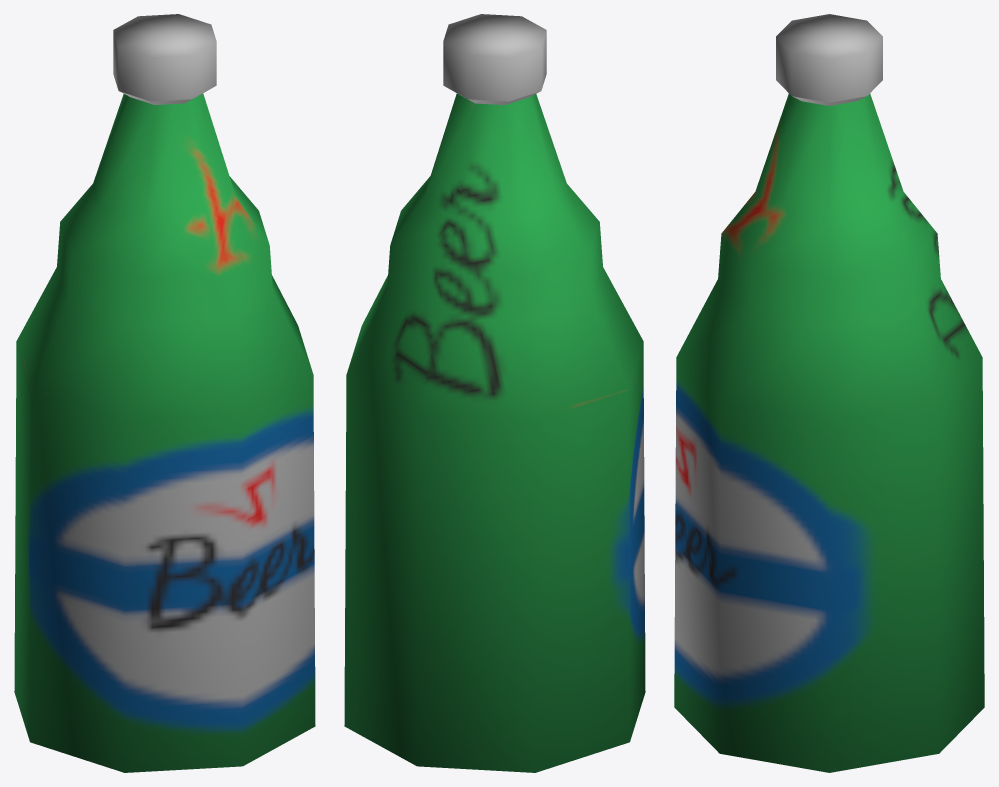
File: Beer_02.fbx
3 views of the same model, side by side, from view 1: azimuth 30°, elevation 25°; view 2: azimuth 150°, elevation 25°; view 3: azimuth 270°, elevation 25° (orthographic).
Parts seen in each view (by area): view 1: Beer_02; view 2: Beer_02; view 3: Beer_02.
Boxes of the visible parts, bbox=[...] form: Beer_02: bbox=[14, 14, 315, 772]; Beer_02: bbox=[344, 14, 645, 772]; Beer_02: bbox=[674, 14, 984, 772].
Size of the model in its own units: 5.61 by 13.37 by 5.61.
